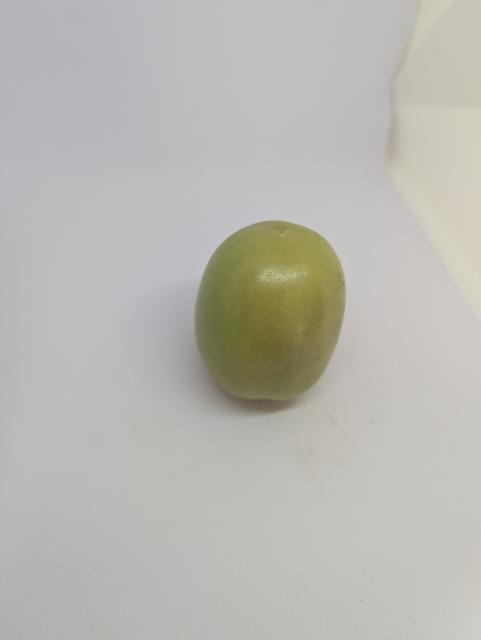green: (185, 207, 356, 416)
